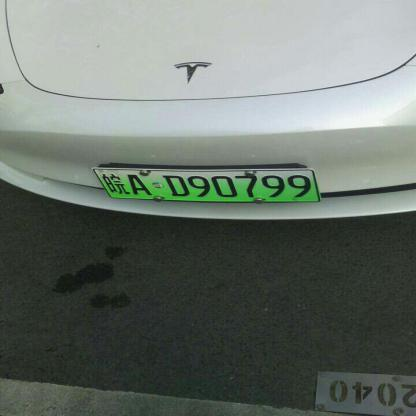lp: (93, 169, 320, 200)
